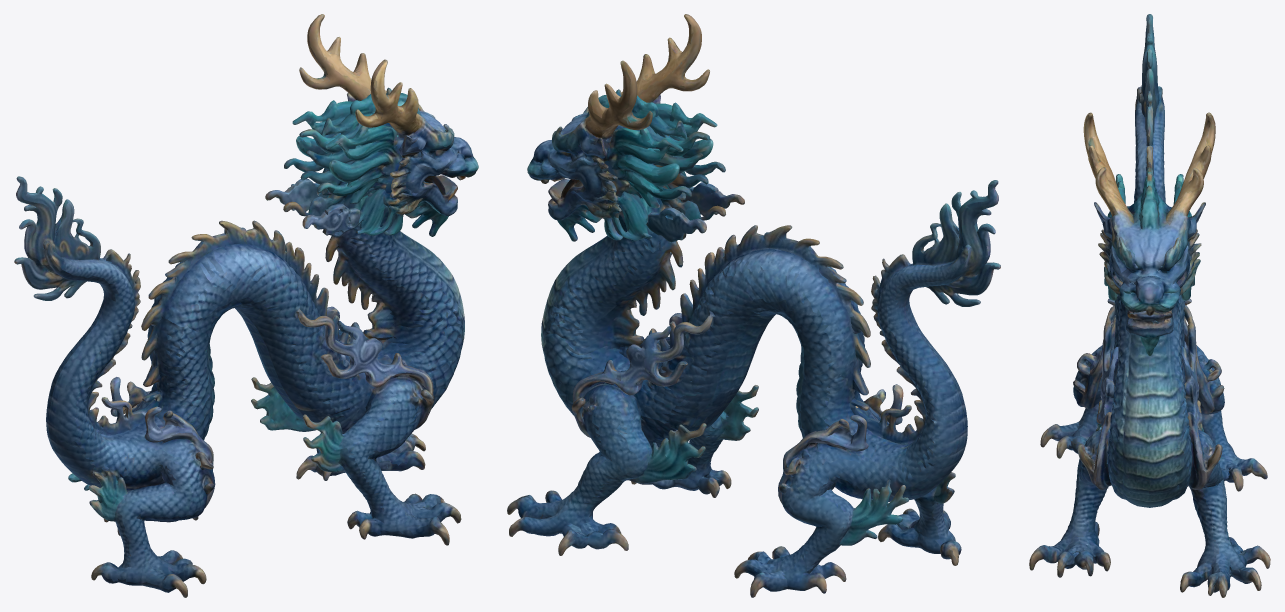
File: qinglong.glb
3 views of the same model, side by side, from view 1: azimuth 30°, elevation 25°; view 2: azimuth 150°, elevation 25°; view 3: azimuth 270°, elevation 25° (orthographic). The views are drawn at different scales.
Parts seen in each view (by area): view 1: geometry_0; view 2: geometry_0; view 3: geometry_0.
Part boxes in pixels (left/top/right/bottom): geometry_0: left=14, top=14, right=478, bottom=597; geometry_0: left=507, top=14, right=1000, bottom=597; geometry_0: left=1029, top=14, right=1270, bottom=597.
Bounding box in the file's own units: 0.45 × 0.4443 × 0.219.
Materials: 1 (1 with a texture image).
